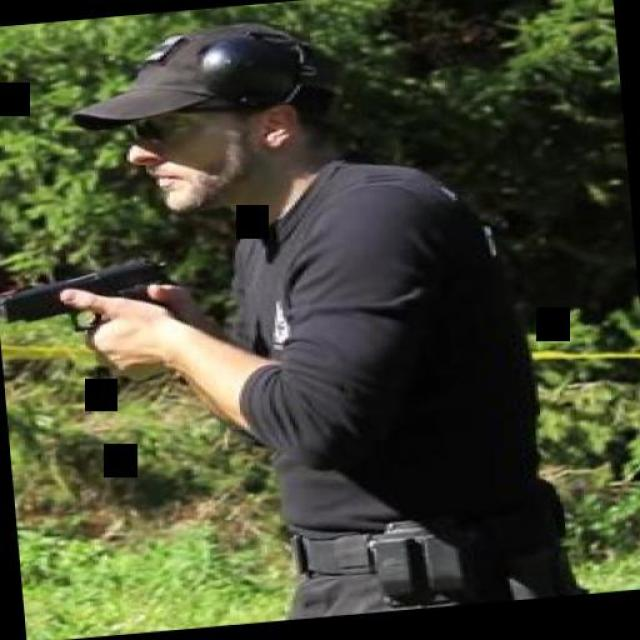gun: (0, 249, 182, 370)
